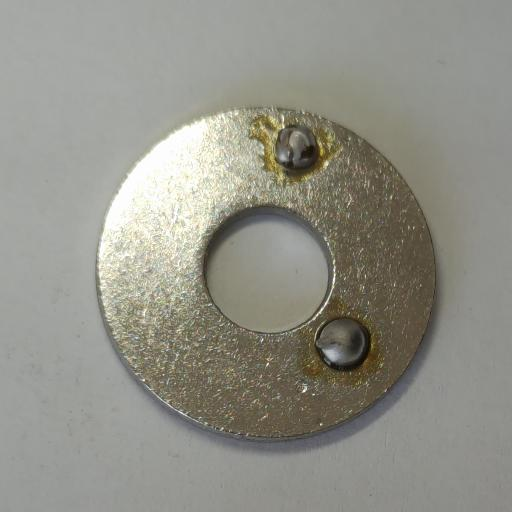excess_material: (316, 317, 370, 372), (275, 125, 318, 170)
